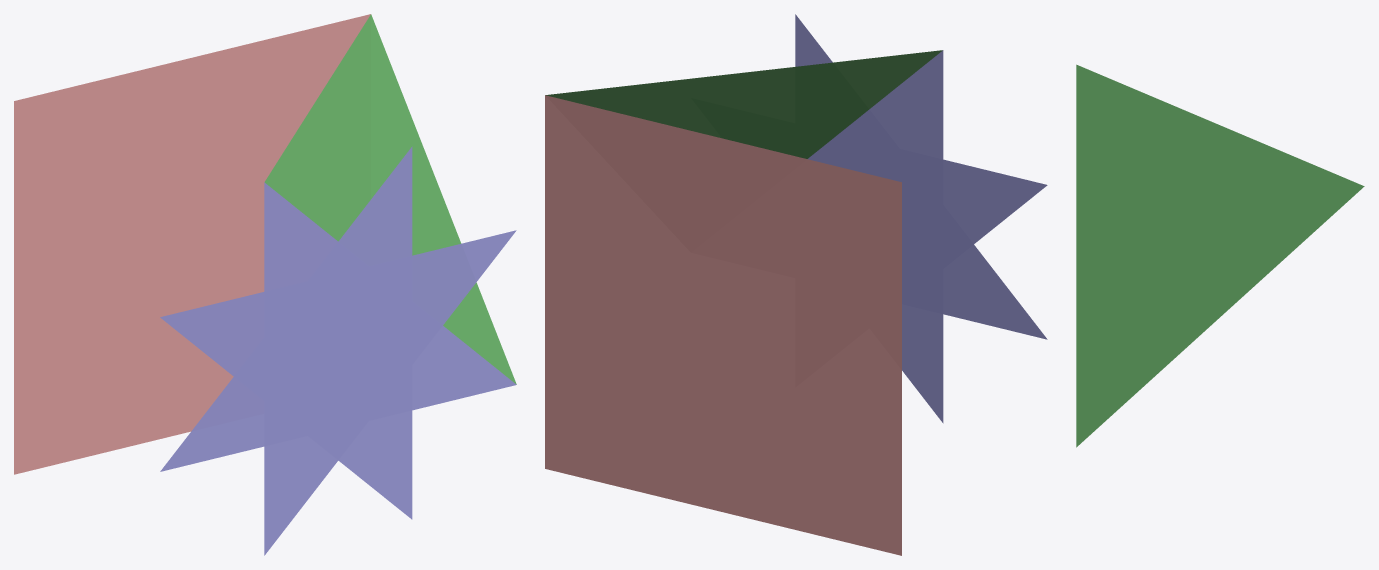
The model's file is GreatCubicuboctahedronF.obj.
The picture shows the model from 3 angles, left to right: view 1: azimuth 30°, elevation 25°; view 2: azimuth 150°, elevation 25°; view 3: azimuth 270°, elevation 25°; orthographic projection.
Bounding box in the file's own units: 1 × 1 × 0.7071.
